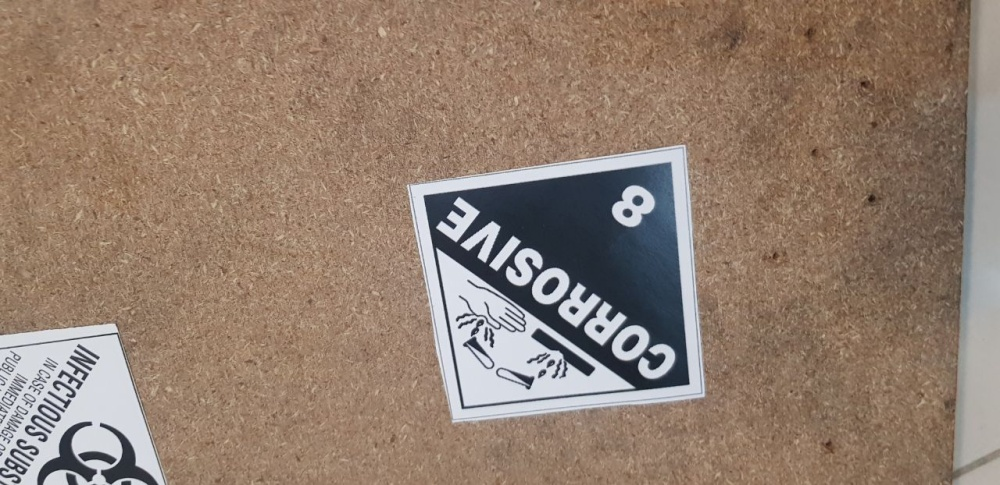Corrosive: (406, 143, 707, 422)
Infectious substance: (1, 322, 166, 485)
